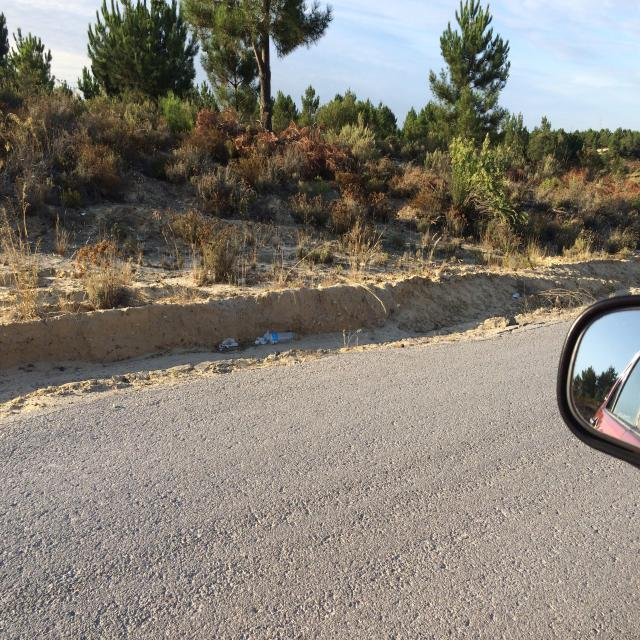litter: (261, 328, 297, 344)
